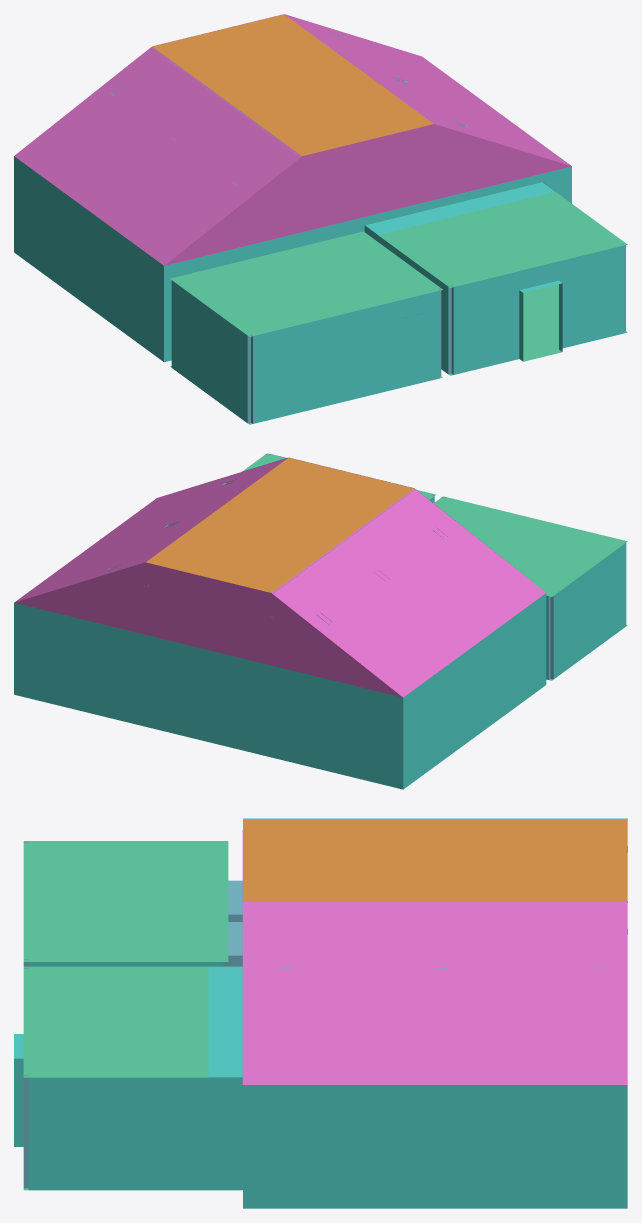
File: Cont1_914.fbx
3 views of the same model, one above another, from view 1: azimuth 30°, elevation 25°; view 2: azimuth 150°, elevation 25°; view 3: azimuth 270°, elevation 25° (orthographic). The views are drawn at different scales.
Visible parts, largest first — view 1: Cont1_914; view 2: Cont1_914; view 3: Cont1_914.
Part boxes in pixels (x1=…): Cont1_914: x1=14, y1=14, x2=627, y2=424; Cont1_914: x1=14, y1=453, x2=627, y2=789; Cont1_914: x1=14, y1=818, x2=627, y2=1208.
Size of the model in its own units: 19.84 by 8.01 by 20.17.
